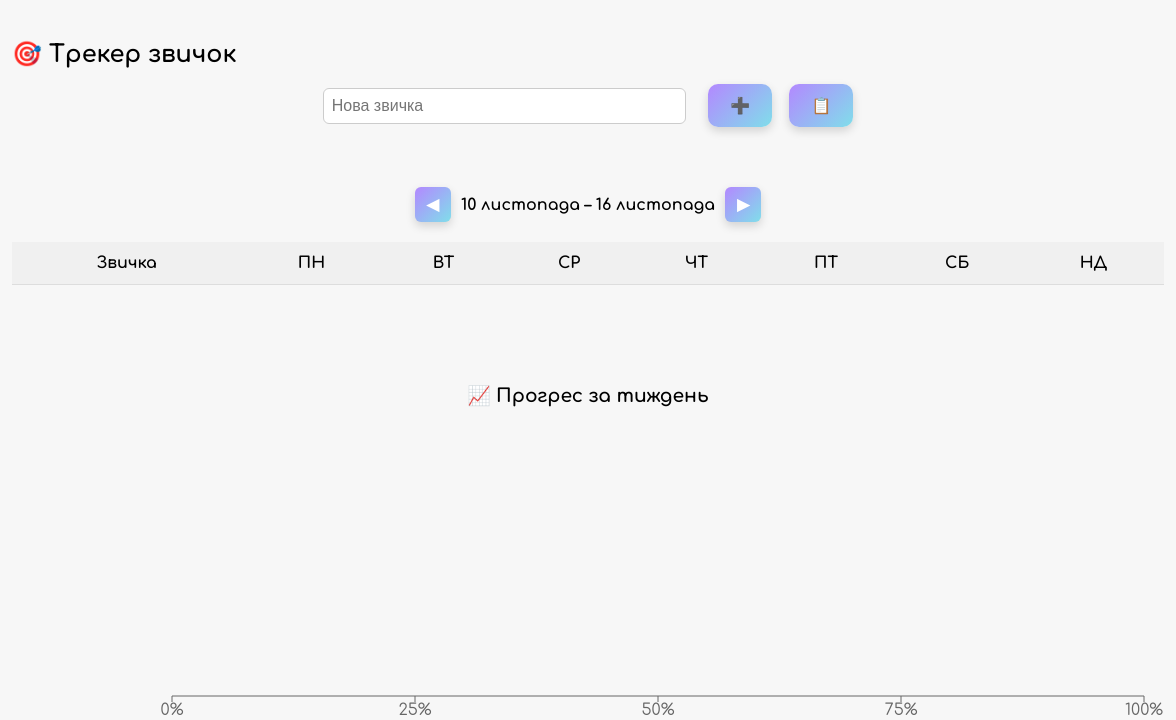
Scenario: показує попередження при спробі відмітити несьогоднішній день
The width and height of the screenshot is (1176, 720).
Type "Звичка" into the field with placeholder "Нова звичка".
click(504, 106); type("Звичка")  # box [323,88,686,124]
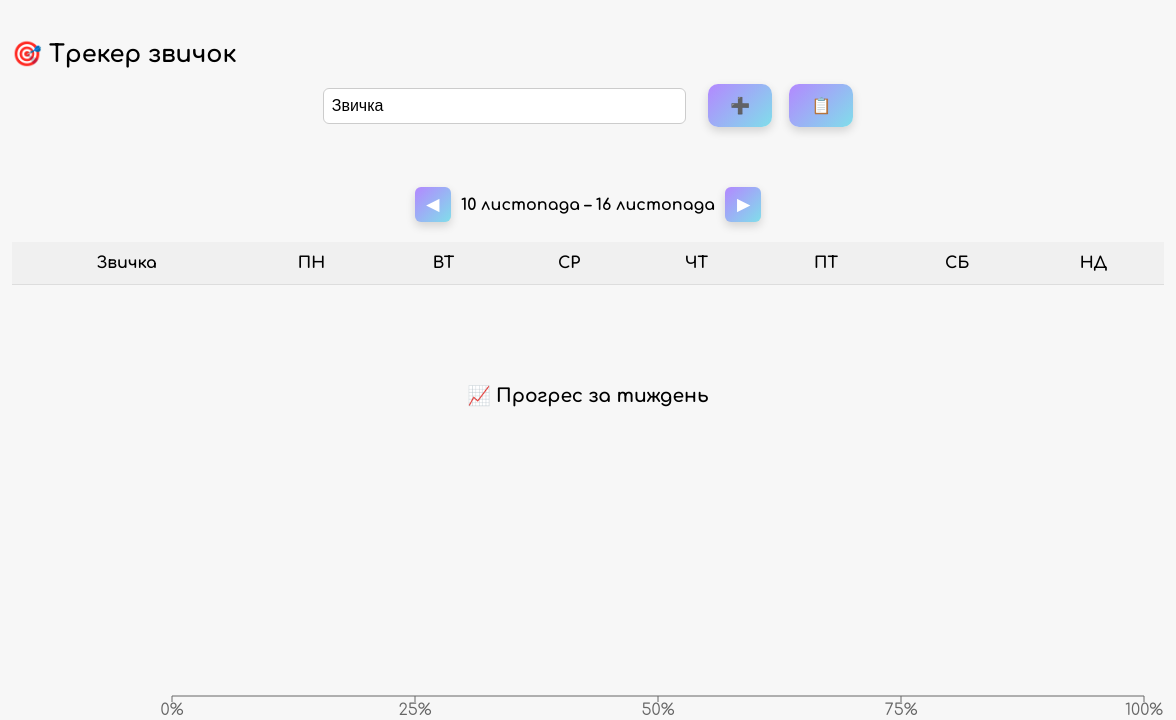
Click the button "➕".
click(740, 106)  # box [708,84,772,127]
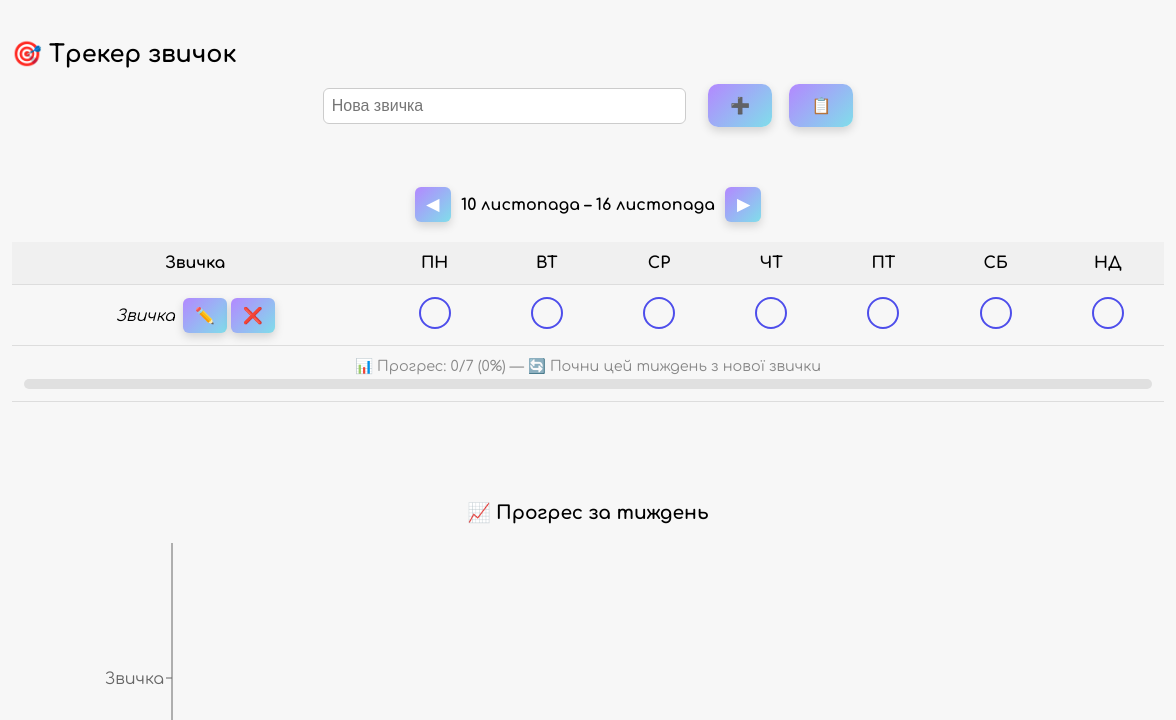
Click the 1st element with class "habit-circle".
click(435, 313)  # box [419,297,451,329]
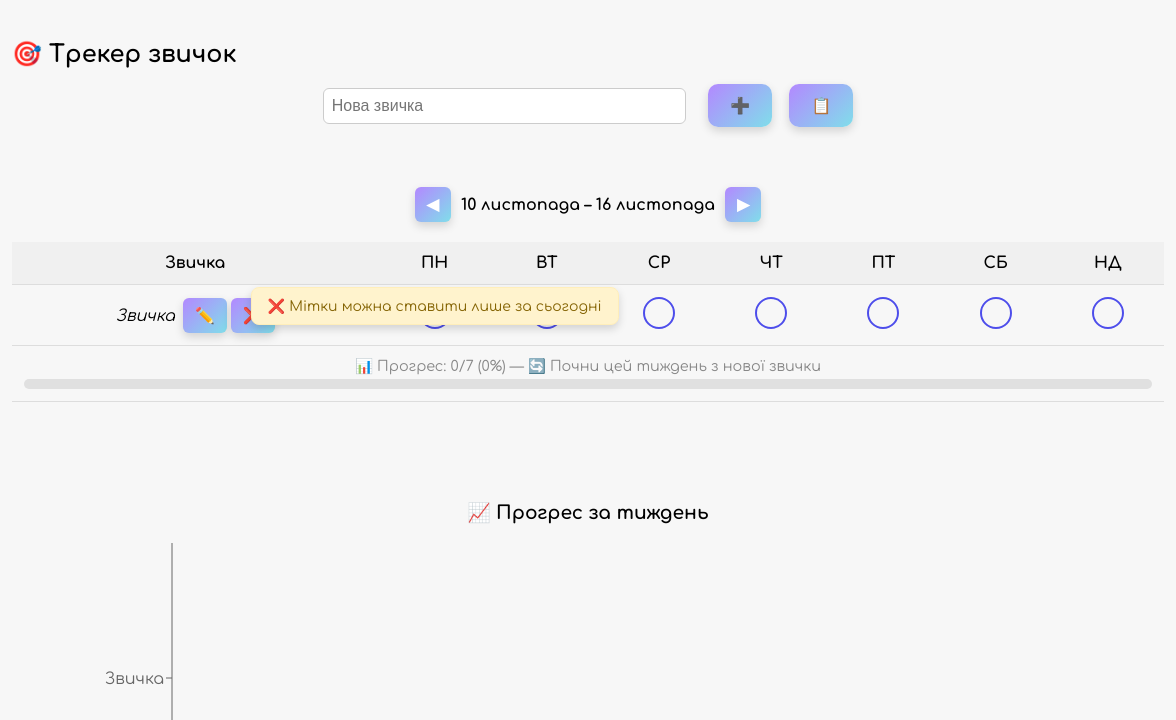
Result: the text "❌ Мітки можна ставити лише за сьогодні" is shown at [251,287,619,325]
